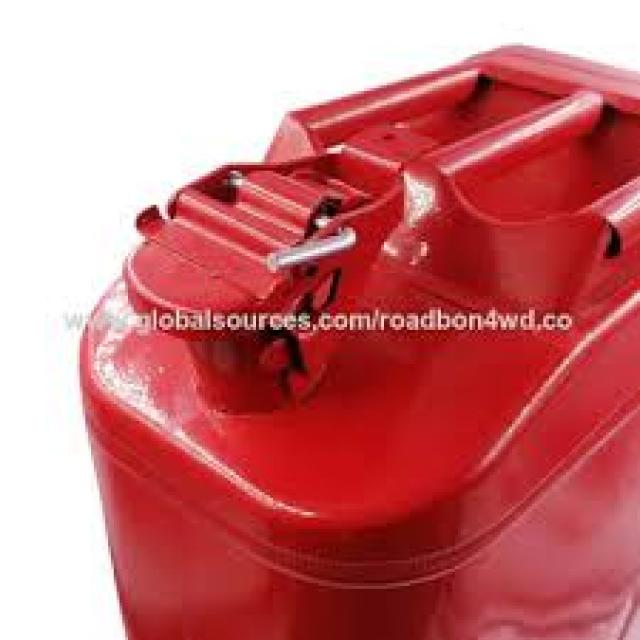gasolin: (77, 46, 640, 640)
